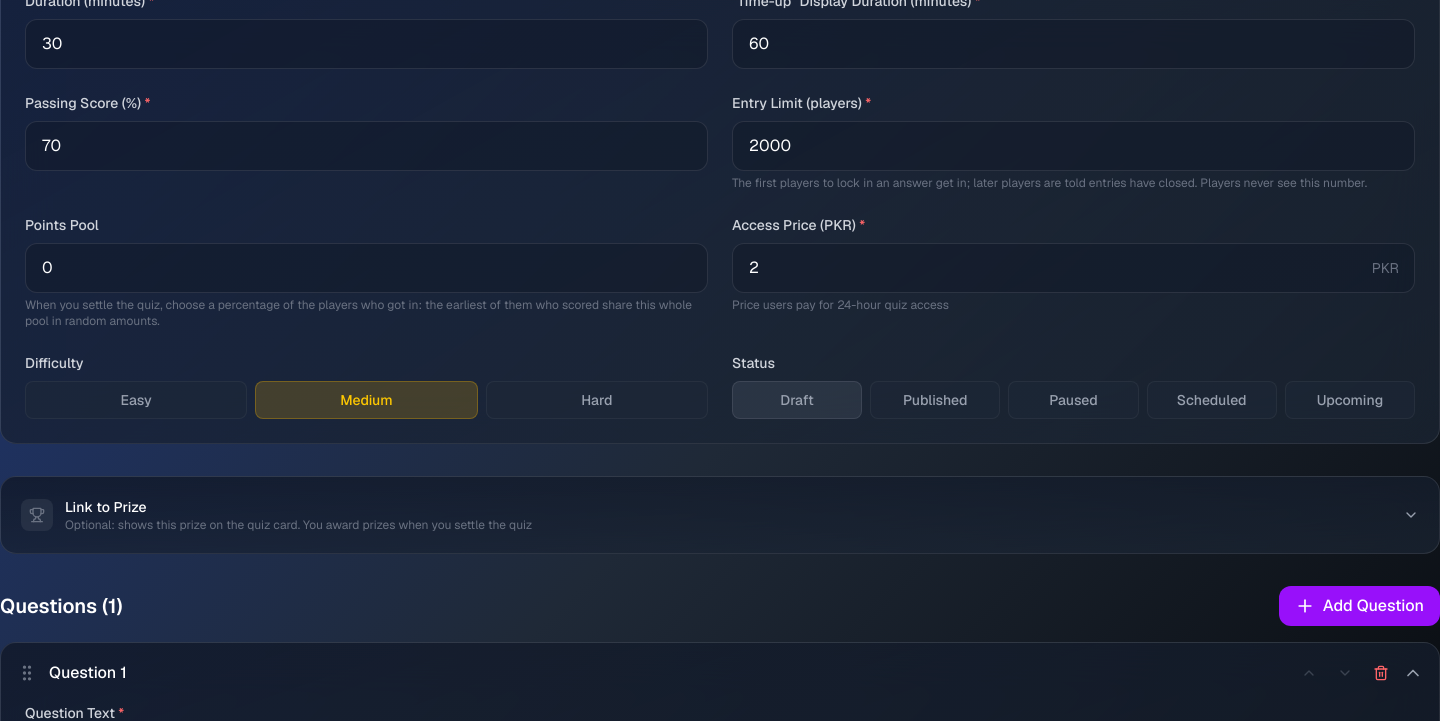
Test: QuizFormBuilder: creating › shows validation errors and refuses to save
(page scrolled)
Submit the form
(page scrolled)
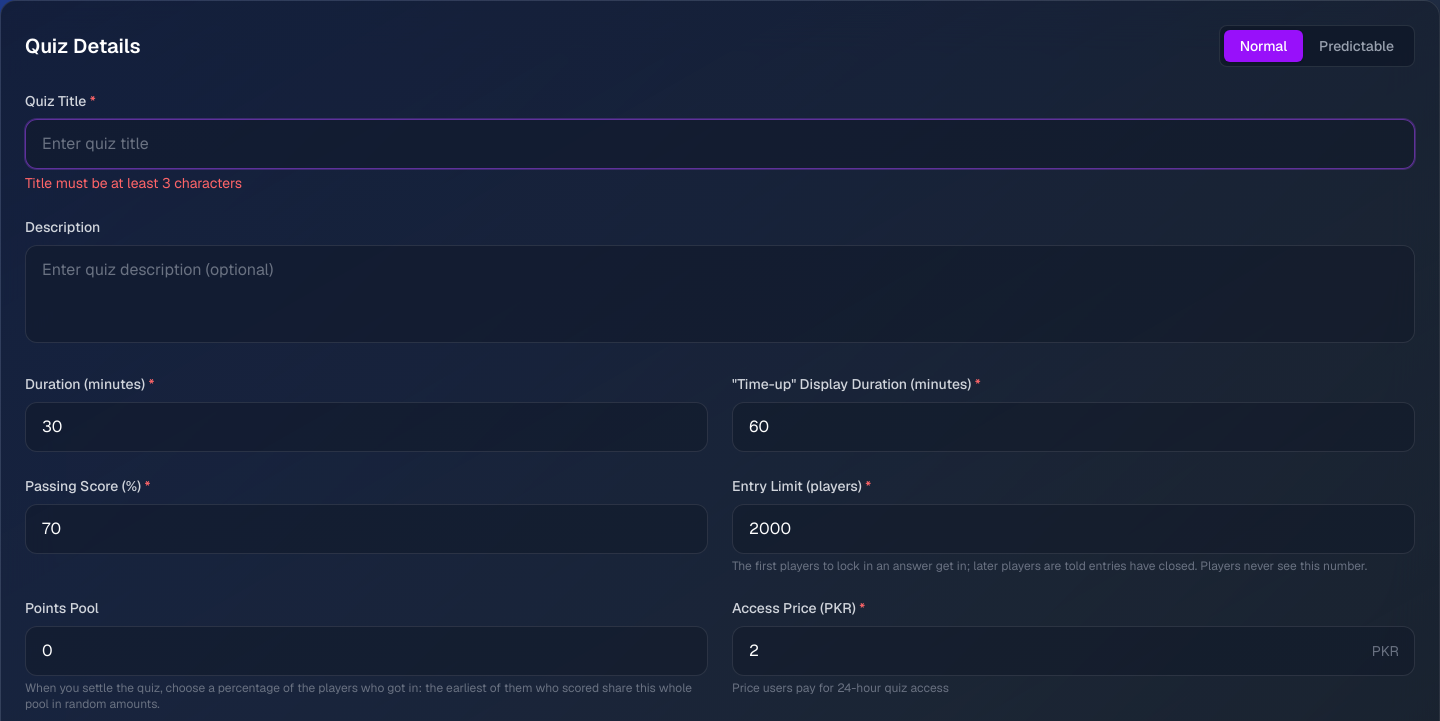
Expected: the text "Title must be at least 3 characters" is shown, [25,174,242,192]
Type "Cricket Cup" into the field with placeholder "Enter quiz title". click: (720, 144)
box: [25,119,1415,169]
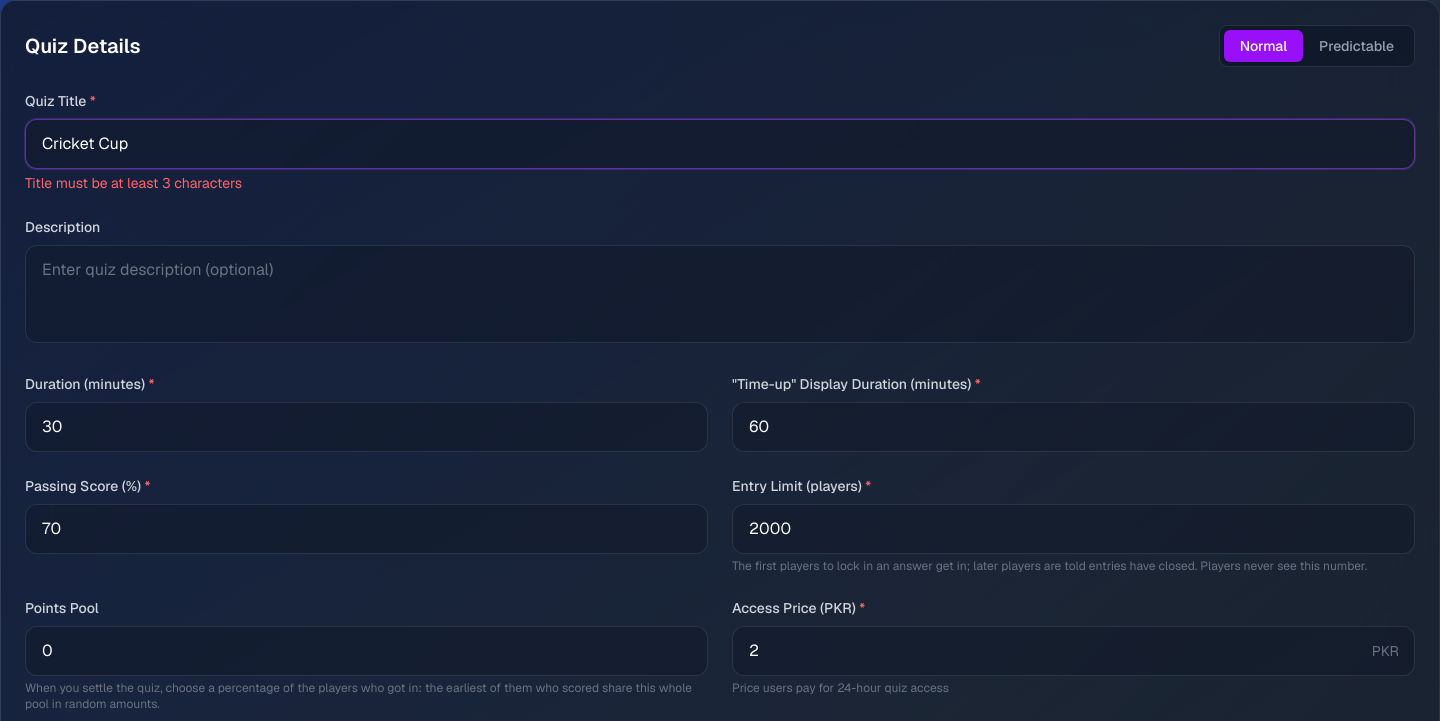
Replace the text in the 1st number field with "500". click: (366, 427)
box: [25,402,708,452]
(page scrolled)
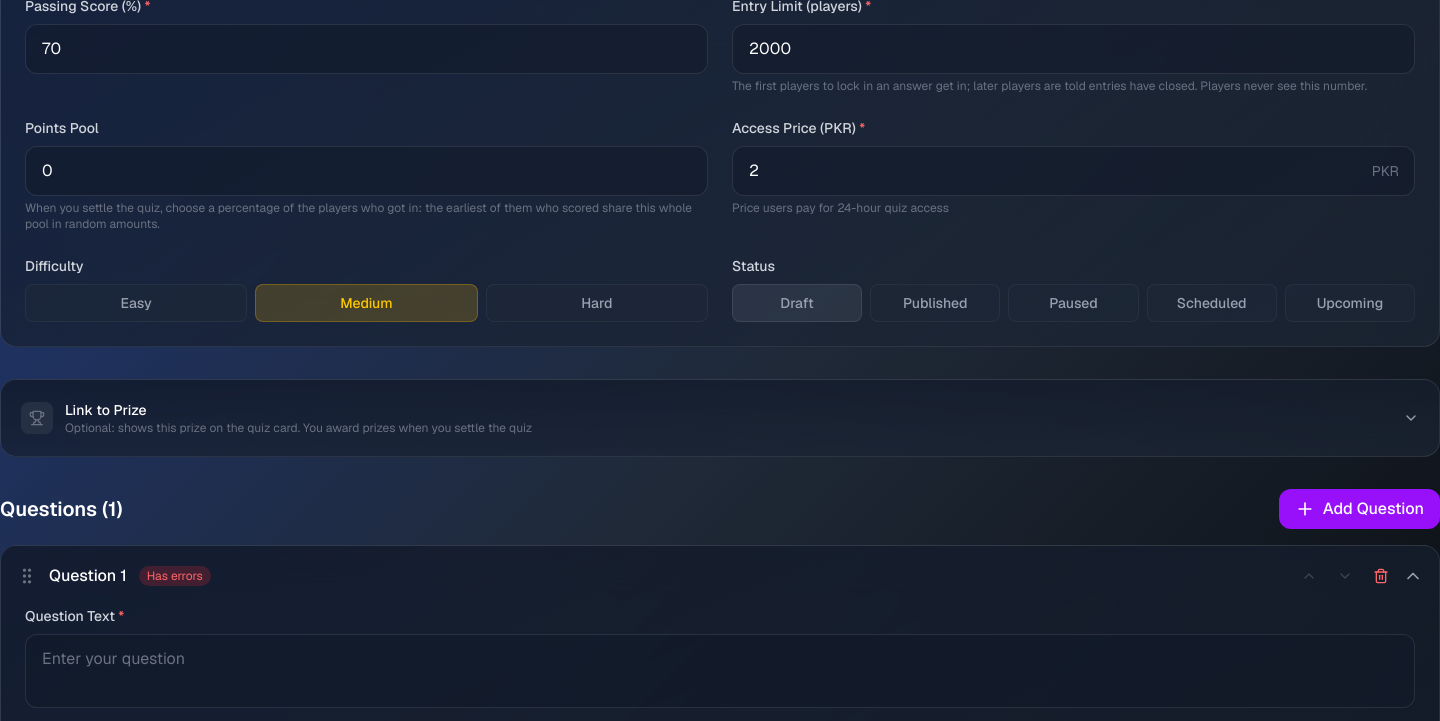
Submit the form
(page scrolled)
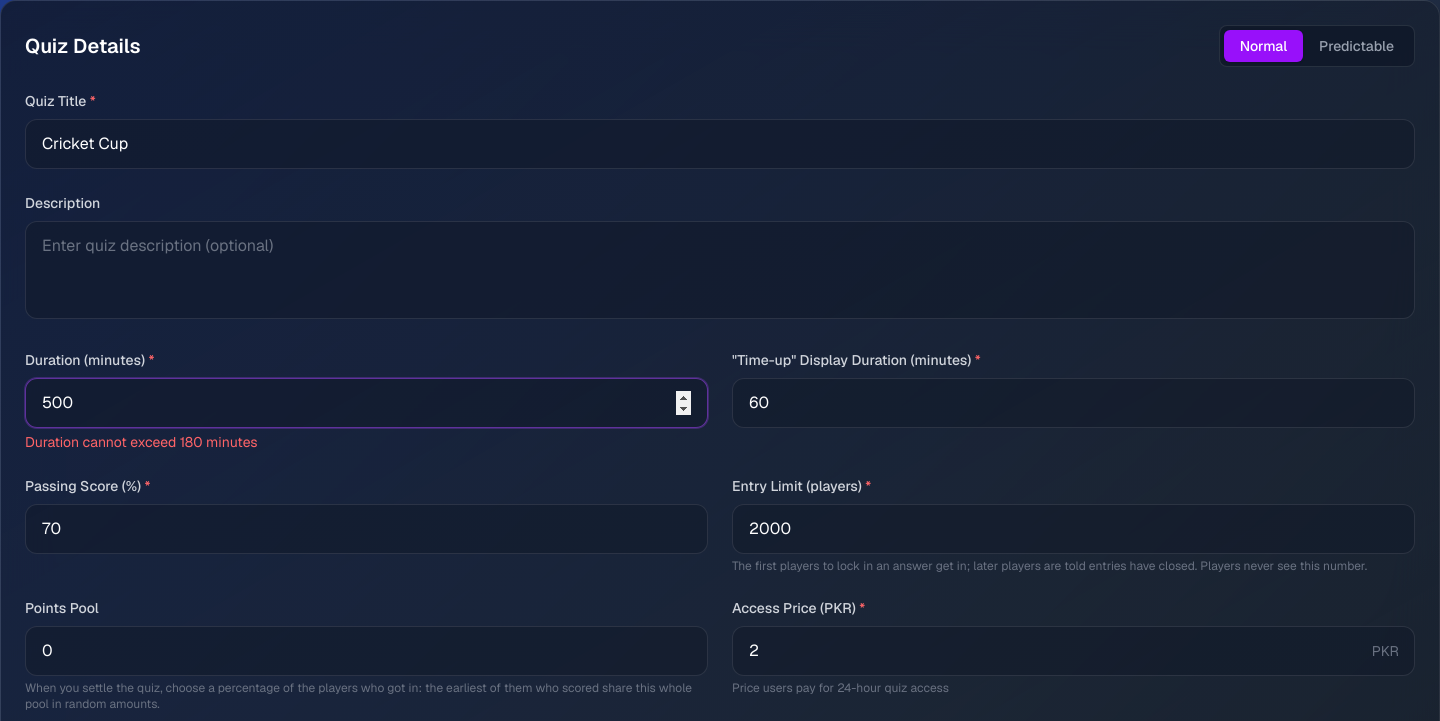
Expected: the text "Duration cannot exceed 180 minutes" is shown, [25,433,258,451]
